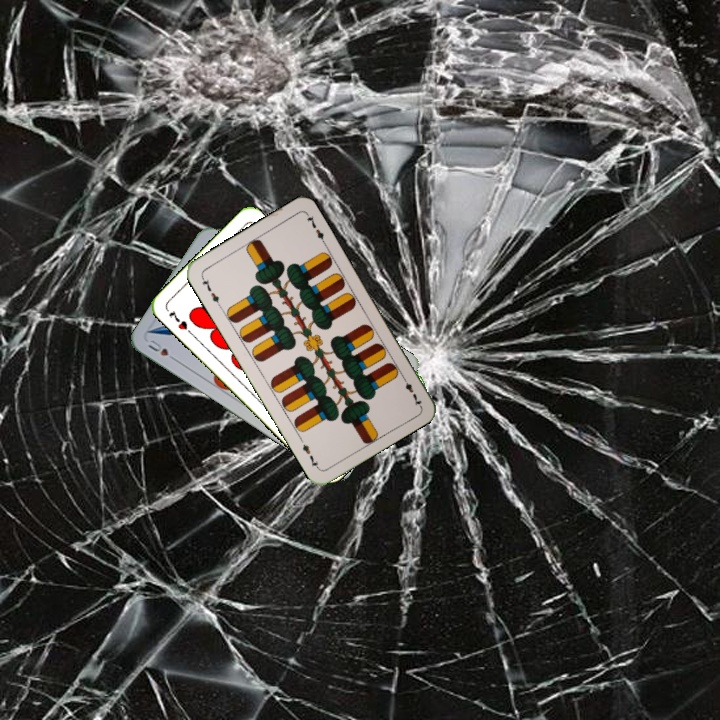E7: (398, 371, 424, 409), (197, 273, 223, 310)
H7: (165, 306, 195, 338)
HU: (144, 336, 180, 363)
